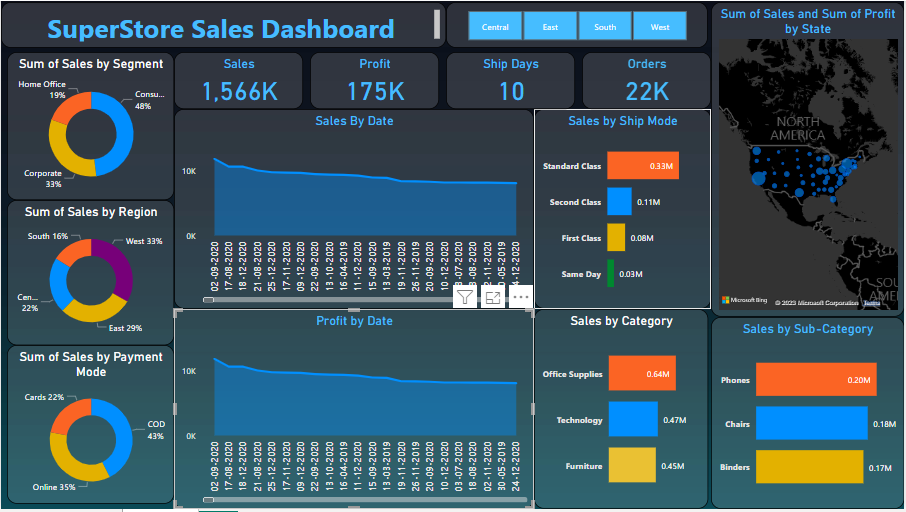

This screenshot's page, from the dashboard's own definition file:
{"tool":"powerbi","page":{"name":"Page 1","canvas":[1280,720],"ordinal":0},"visuals":[{"type":"clusteredBarChart","title":"Sales by Category","fields":{"Category":["SuperStore_Sales_Dataset.Category"],"Y":["Sum(SuperStore_Sales_Dataset.Sales)"]},"box":[755.4,436.5,246.6,283.5],"z":0},{"type":"clusteredBarChart","title":"Sales by Sub-Category","fields":{"Y":["Sum(SuperStore_Sales_Dataset.Sales)"],"Category":["SuperStore_Sales_Dataset.Sub-Category"]},"box":[1006.3,447.9,273.5,272.1],"z":1000},{"type":"clusteredBarChart","title":"Sales by Ship Mode","fields":{"Y":["Sum(SuperStore_Sales_Dataset.Sales)"],"Category":["SuperStore_Sales_Dataset.Ship Mode"]},"box":[755.4,153.1,250.9,283.5],"z":2000},{"type":"areaChart","title":"Sales By Date","fields":{"Y":["Sum(SuperStore_Sales_Dataset.Sales)"],"Category":["SuperStore_Sales_Dataset.Order Date"]},"box":[245.2,153.1,510.2,283.5],"z":3000},{"type":"areaChart","title":"Profit by Date","fields":{"Y":["Sum(SuperStore_Sales_Dataset.Sales)"],"Category":["SuperStore_Sales_Dataset.Order Date"]},"box":[245.2,436.5,510.2,283.5],"z":4000},{"type":"map","fields":{"Category":["SuperStore_Sales_Dataset.State"],"Size":["Sum(SuperStore_Sales_Dataset.Sales)"]},"box":[1006.3,1.4,273.5,446.5],"z":5000},{"type":"donutChart","fields":{"Category":["SuperStore_Sales_Dataset.Segment"],"Y":["Sum(SuperStore_Sales_Dataset.Sales)"]},"box":[8.5,72.3,236.7,209.8],"z":6000},{"type":"donutChart","fields":{"Category":["SuperStore_Sales_Dataset.Region"],"Y":["Sum(SuperStore_Sales_Dataset.Sales)"]},"box":[8.5,282,236.7,205.5],"z":7000},{"type":"donutChart","fields":{"Y":["Sum(SuperStore_Sales_Dataset.Sales)"],"Category":["SuperStore_Sales_Dataset.Payment Mode"]},"box":[8.5,487.6,236.7,225.4],"z":8000},{"type":"slicer","fields":{"Values":["SuperStore_Sales_Dataset.Region"]},"box":[630.7,1.4,371.3,65.2],"z":9000},{"type":"textbox","box":[0,1.4,630.7,65.2],"z":10000},{"type":"card","title":"Sales","fields":{"Values":["Sum(SuperStore_Sales_Dataset.Sales)"]},"box":[245.2,72.3,182.8,80.8],"z":11000},{"type":"card","title":"Profit","fields":{"Values":["Sum(SuperStore_Sales_Dataset.Profit)"]},"box":[438,72.3,182.8,80.8],"z":12000},{"type":"card","title":"Ship Days","fields":{"Values":["Avg(SuperStore_Sales_Dataset.AvgDelivery)"]},"box":[630.7,72.3,182.8,80.8],"z":13000},{"type":"card","title":"Orders","fields":{"Values":["Sum(SuperStore_Sales_Dataset.Quantity)"]},"box":[823.5,72.3,182.8,80.8],"z":14000}]}

Visuals, with their boxes in screenshot pixels (x1, y1, x2, y2), scaled from the page's 1280x720 canvas onto the 906x512 screenshot:
"Sales by Category" clusteredBarChart: 535:310:709:511
"Sales by Sub-Category" clusteredBarChart: 712:319:905:511
"Sales by Ship Mode" clusteredBarChart: 535:109:712:310
"Sales By Date" areaChart: 174:109:535:310
"Profit by Date" areaChart: 174:310:535:511
map - SuperStore_Sales_Dataset.State x Sum(SuperStore_Sales_Dataset.Sales): 712:1:905:319
donutChart - SuperStore_Sales_Dataset.Segment x Sum(SuperStore_Sales_Dataset.Sales): 6:51:174:201
donutChart - SuperStore_Sales_Dataset.Region x Sum(SuperStore_Sales_Dataset.Sales): 6:201:174:347
donutChart - Sum(SuperStore_Sales_Dataset.Sales) x SuperStore_Sales_Dataset.Payment Mode: 6:347:174:507
slicer - SuperStore_Sales_Dataset.Region: 446:1:709:47
textbox: 0:1:446:47
"Sales" card: 174:51:303:109
"Profit" card: 310:51:439:109
"Ship Days" card: 446:51:576:109
"Orders" card: 583:51:712:109
